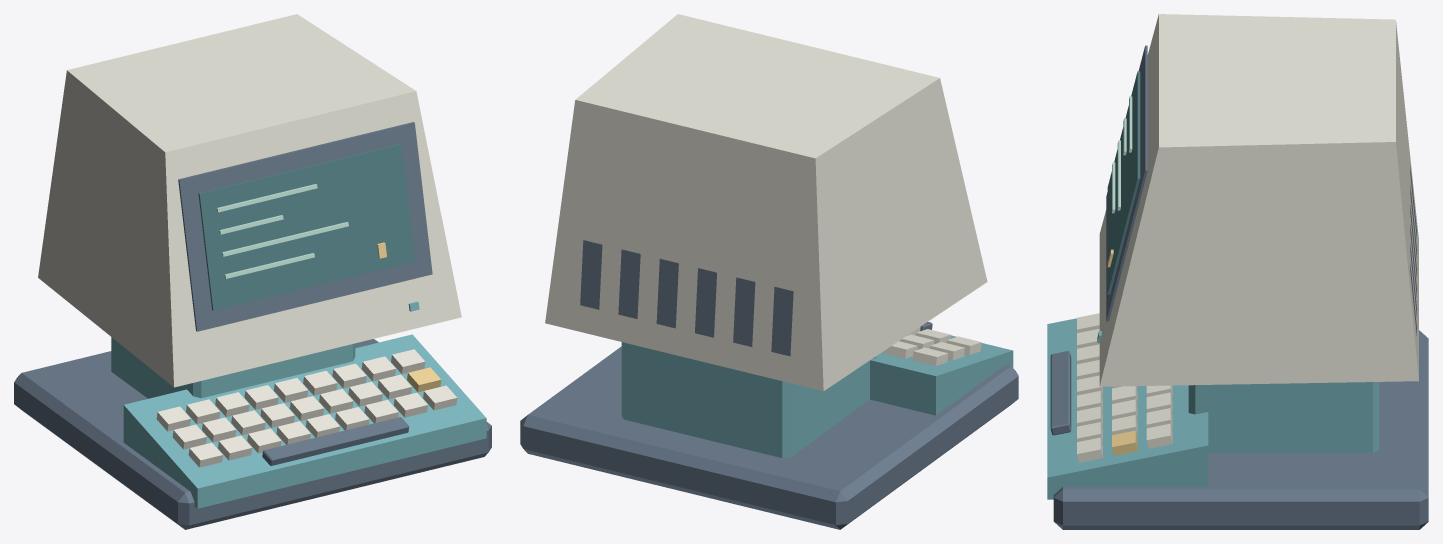
The model's file is computer_terminal.glb.
3 views of the same model, side by side, from view 1: azimuth 30°, elevation 25°; view 2: azimuth 150°, elevation 25°; view 3: azimuth 270°, elevation 25° (orthographic). The views are drawn at different scales.
Visible parts, largest first — view 1: terminal_tapered_case, terminal_screen, terminal_base, terminal_keyboard_wedge, terminal_screen_bezel, terminal_monitor_foot, terminal_spacebar, terminal_screen_line.002, terminal_key.009, terminal_key.020, terminal_key.001, terminal_key.008 (+24 smaller); view 2: terminal_tapered_case, terminal_base, terminal_monitor_foot, terminal_keyboard_wedge, terminal_rear_vent.005, terminal_rear_vent.003, terminal_rear_vent.004, terminal_rear_vent.001, terminal_rear_vent, terminal_rear_vent.002; view 3: terminal_tapered_case, terminal_base, terminal_monitor_foot, terminal_keyboard_wedge, terminal_screen, terminal_screen_bezel, terminal_spacebar, terminal_key.026, terminal_key.008, terminal_key.017.
Boxes of the visible parts, bbox=[...] form: terminal_tapered_case: bbox=[38, 14, 461, 387]; terminal_screen: bbox=[198, 144, 415, 310]; terminal_base: bbox=[14, 339, 491, 529]; terminal_keyboard_wedge: bbox=[123, 334, 486, 508]; terminal_screen_bezel: bbox=[178, 122, 432, 331]; terminal_monitor_foot: bbox=[111, 337, 355, 398]; terminal_spacebar: bbox=[262, 417, 409, 465]; terminal_screen_line.002: bbox=[222, 222, 348, 256]; terminal_key.009: bbox=[172, 424, 206, 449]; terminal_key.020: bbox=[215, 392, 249, 416]; terminal_key.001: bbox=[218, 435, 252, 460]; terminal_key.008: bbox=[423, 385, 457, 410]; terminal_tapered_case: bbox=[545, 14, 987, 391]; terminal_base: bbox=[520, 346, 1018, 529]; terminal_monitor_foot: bbox=[621, 342, 876, 458]; terminal_keyboard_wedge: bbox=[870, 335, 1013, 415]; terminal_rear_vent.005: bbox=[580, 240, 602, 309]; terminal_rear_vent.003: bbox=[656, 259, 678, 328]; terminal_rear_vent.004: bbox=[618, 249, 640, 318]; terminal_rear_vent.001: bbox=[733, 277, 755, 346]; terminal_rear_vent: bbox=[771, 287, 793, 356]; terminal_rear_vent.002: bbox=[695, 268, 716, 337]; terminal_tapered_case: bbox=[1099, 14, 1418, 386]; terminal_base: bbox=[1053, 330, 1428, 529]; terminal_monitor_foot: bbox=[1188, 382, 1379, 452]; terminal_keyboard_wedge: bbox=[1047, 318, 1208, 499]; terminal_screen: bbox=[1107, 71, 1140, 294]; terminal_screen_bezel: bbox=[1106, 45, 1147, 321]; terminal_spacebar: bbox=[1050, 351, 1071, 435]; terminal_key.026: bbox=[1146, 423, 1172, 448]; terminal_key.008: bbox=[1077, 437, 1102, 462]; terminal_key.017: bbox=[1112, 430, 1137, 455].
Size of the model in its own units: 0.6 by 0.62 by 0.58.
